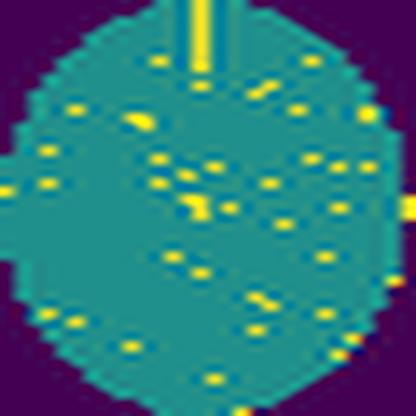Scratch: (188, 0, 214, 81)
